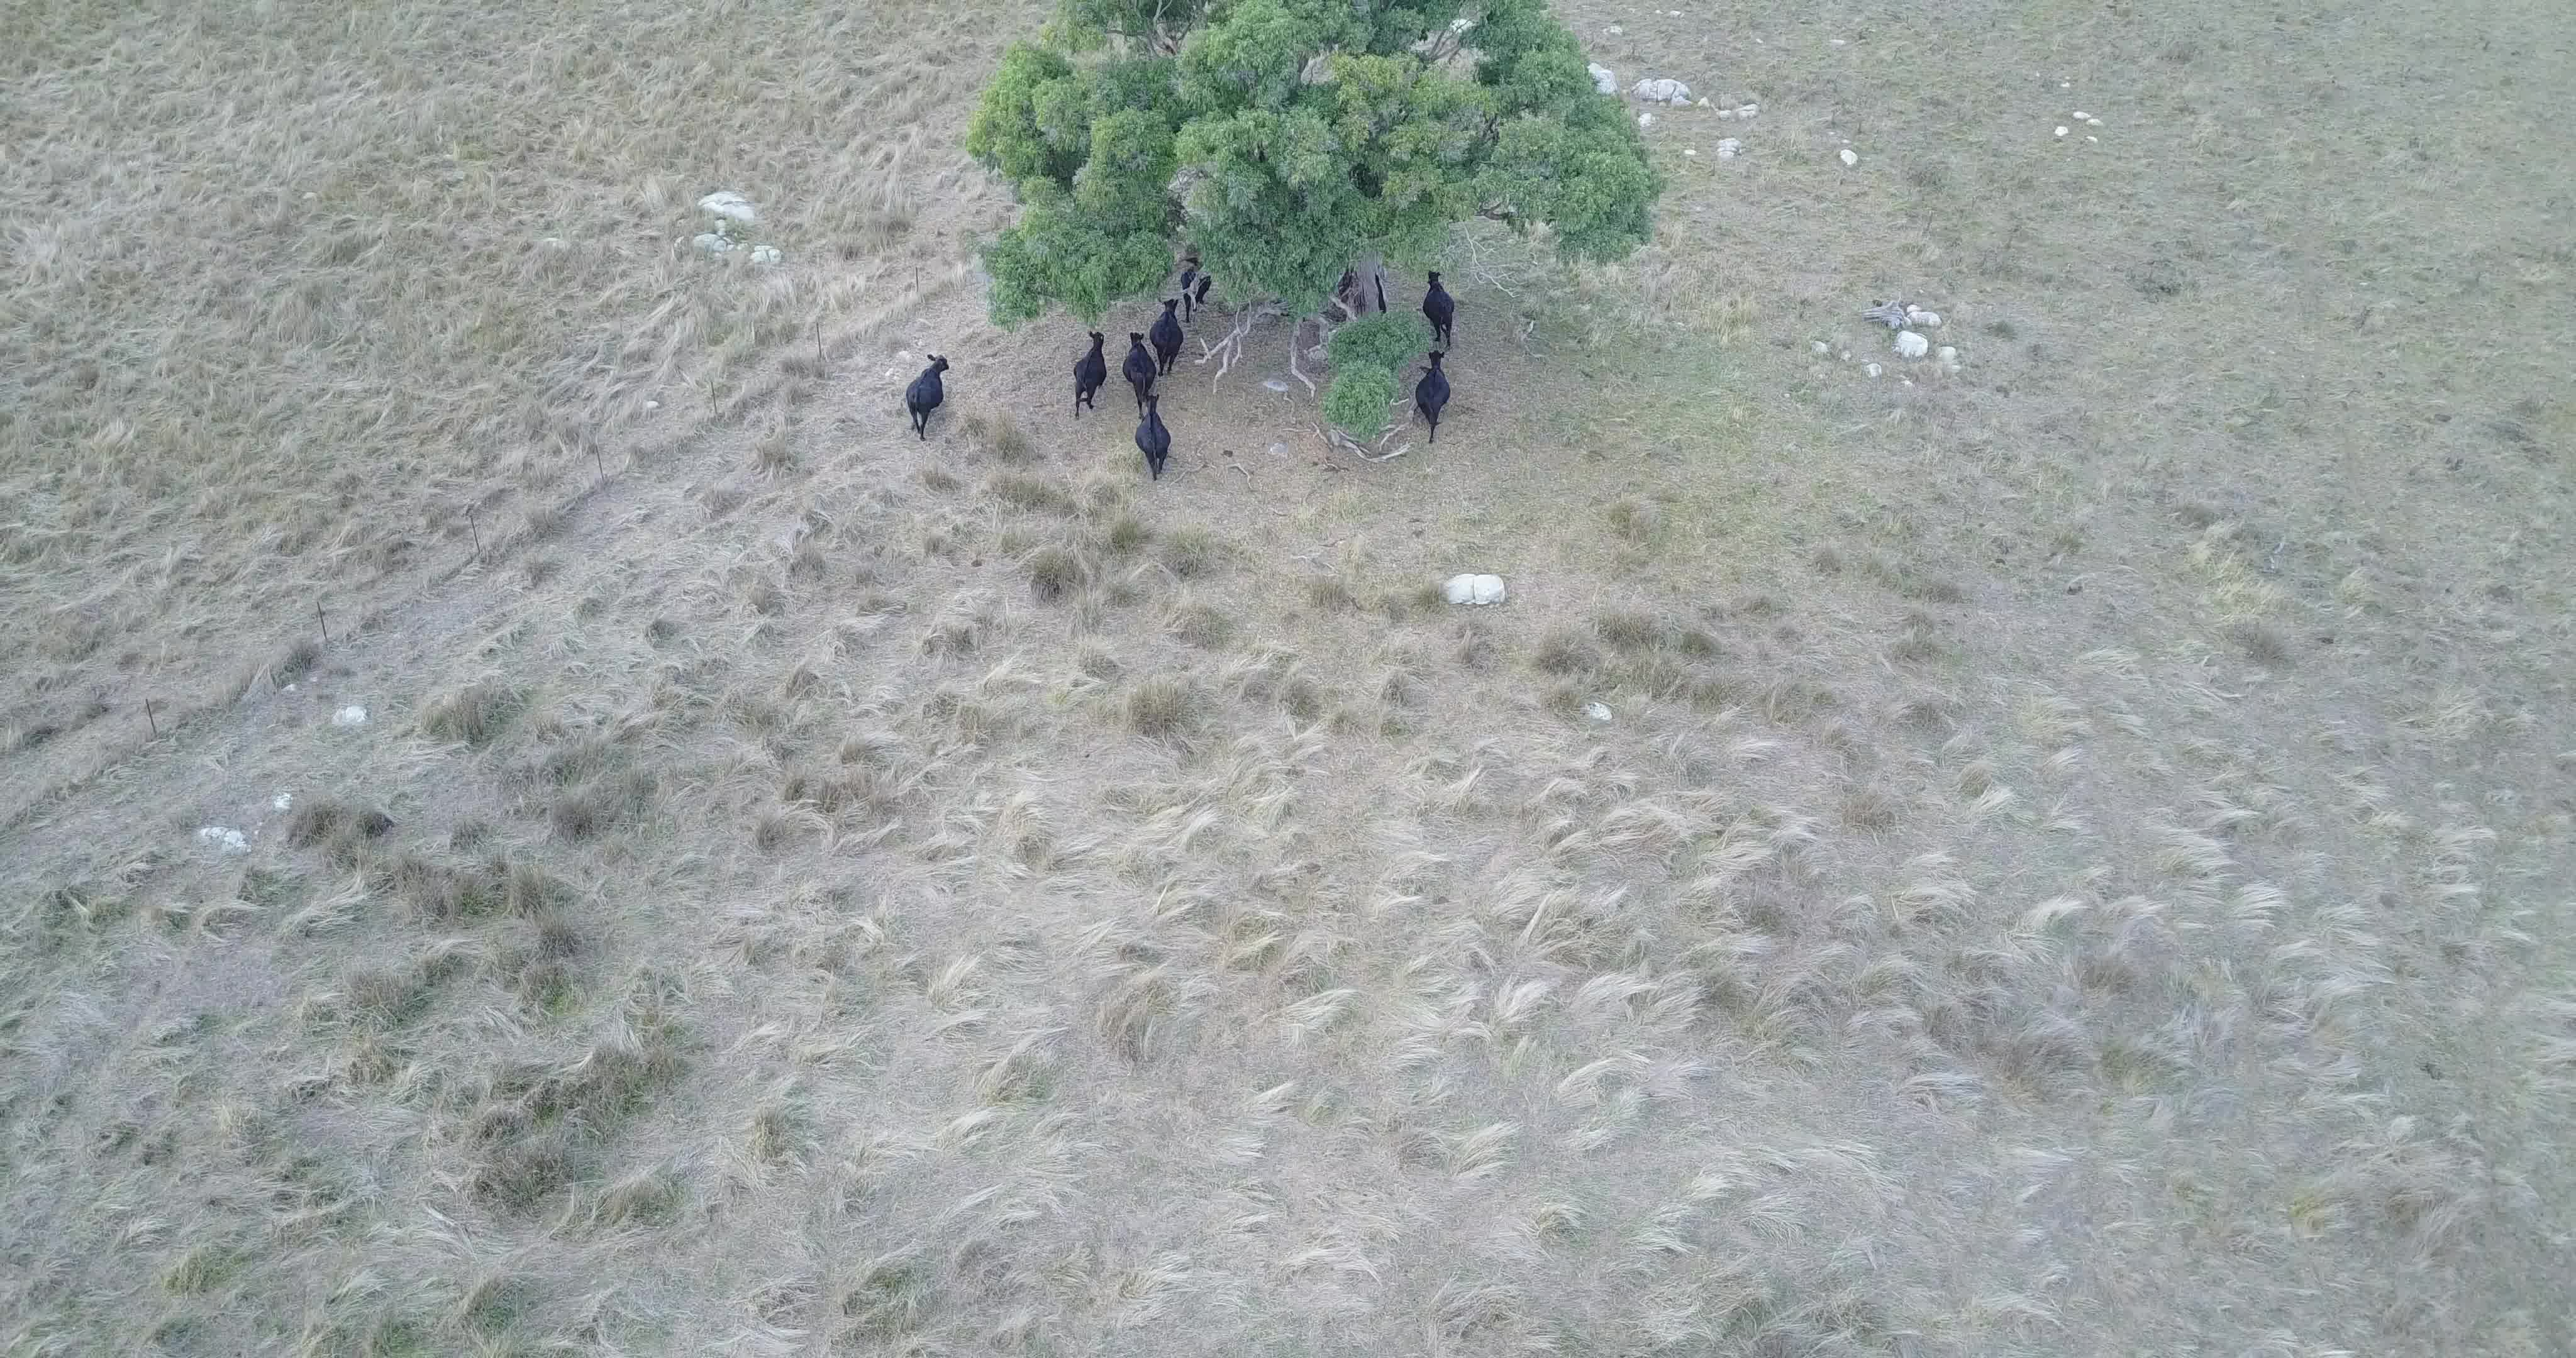cattle: (905, 348, 952, 446), (1131, 392, 1172, 489), (1070, 327, 1107, 423), (1416, 349, 1453, 445), (1119, 331, 1159, 416), (1419, 268, 1460, 346), (1150, 298, 1186, 375), (1181, 254, 1211, 322)
